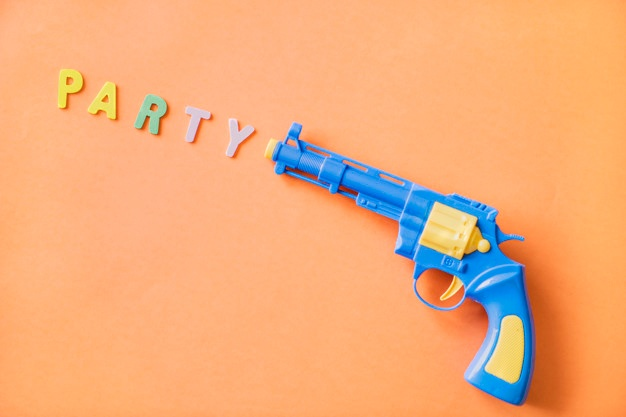Arma Falsa: (263, 122, 535, 410)
